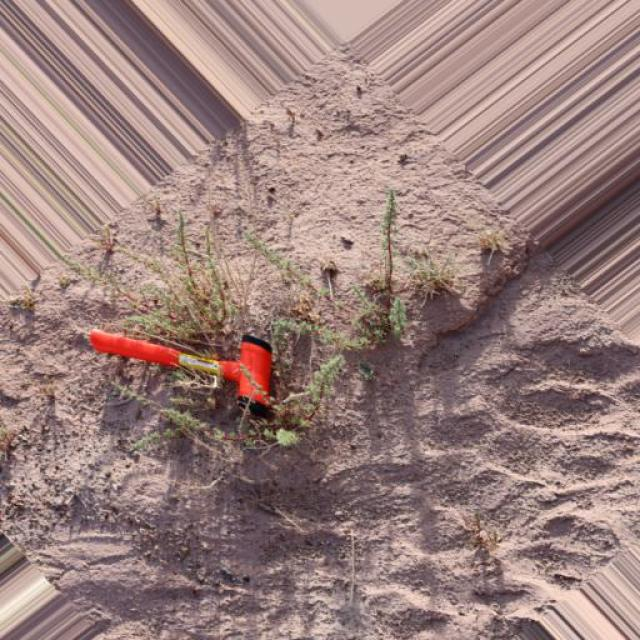mallet: (85, 326, 275, 419)
